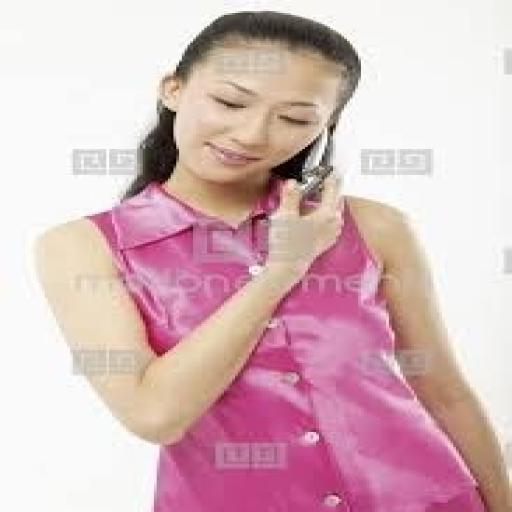calling: (25, 8, 509, 510)
